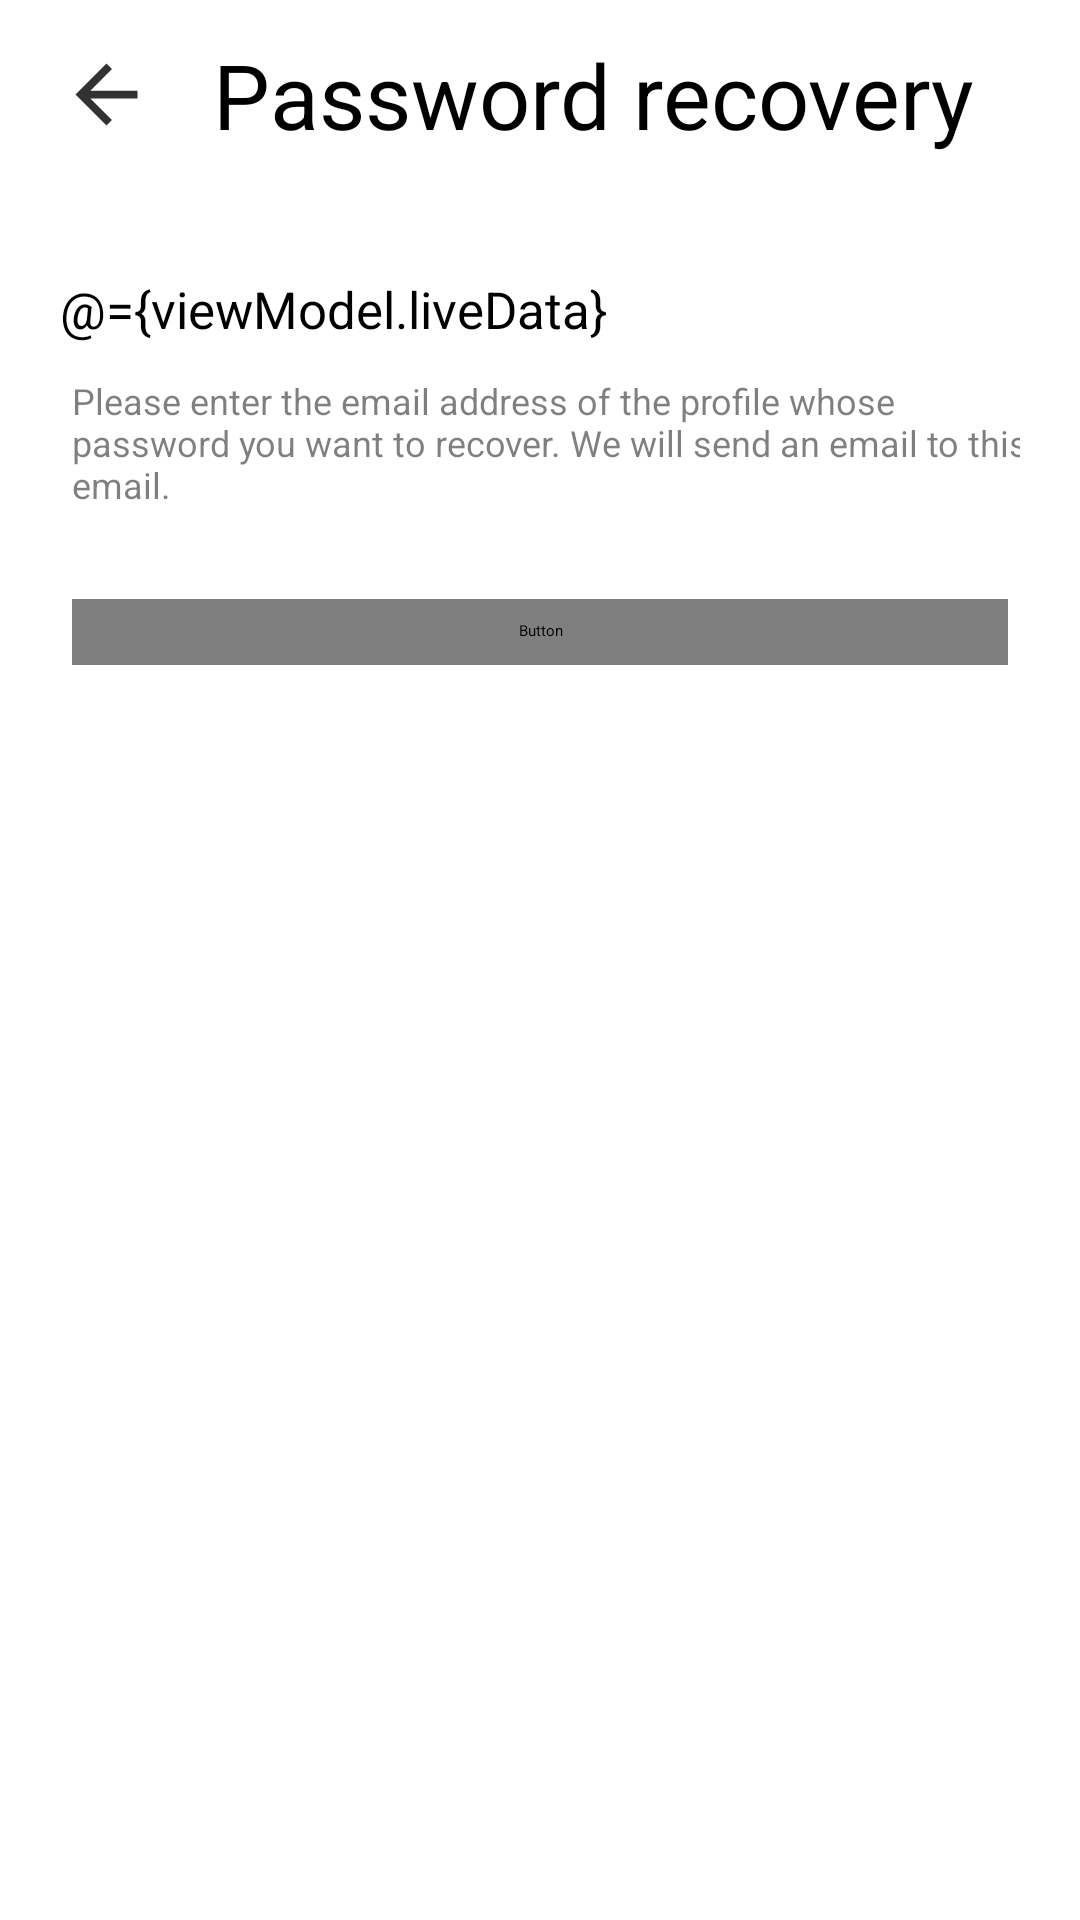

Where to tap for icons on this 1080 × 1920 app screen, as [x,y]:
Back: [106,94]
